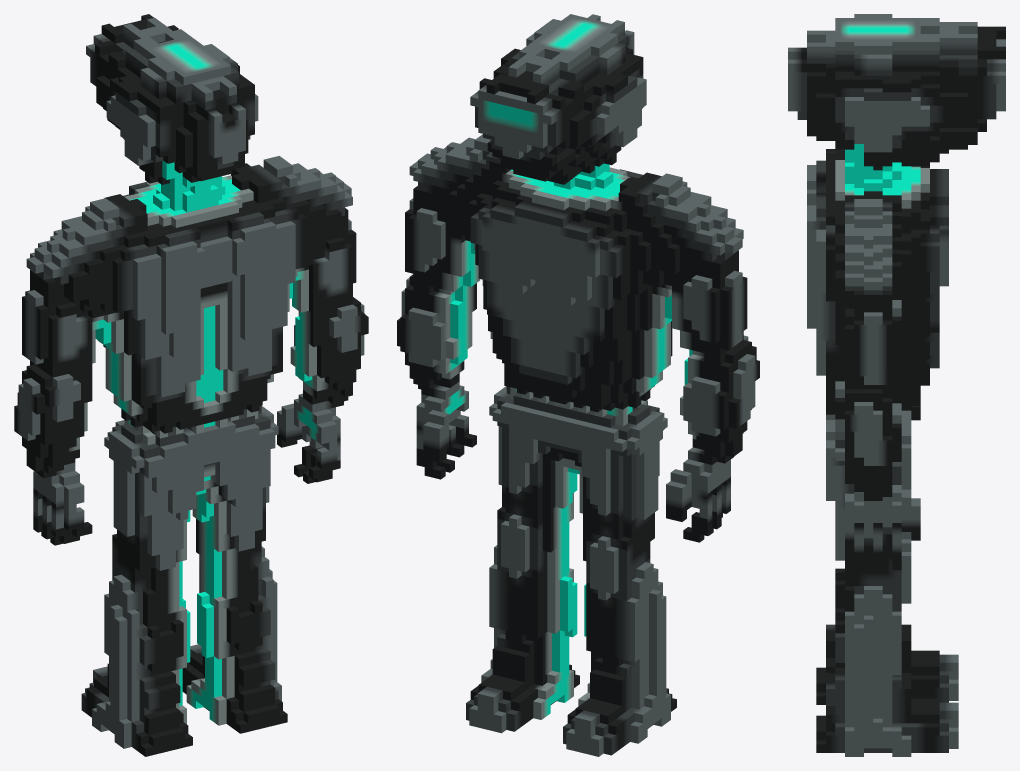
Rendered from ColortestCyan.fbx.
The picture shows the model from 3 angles, left to right: view 1: azimuth 30°, elevation 25°; view 2: azimuth 150°, elevation 25°; view 3: azimuth 270°, elevation 25°; orthographic projection. The views are drawn at different scales.
Size of the model in its own units: 42 by 80 by 23.
Materials: 1 (1 with a texture image).
